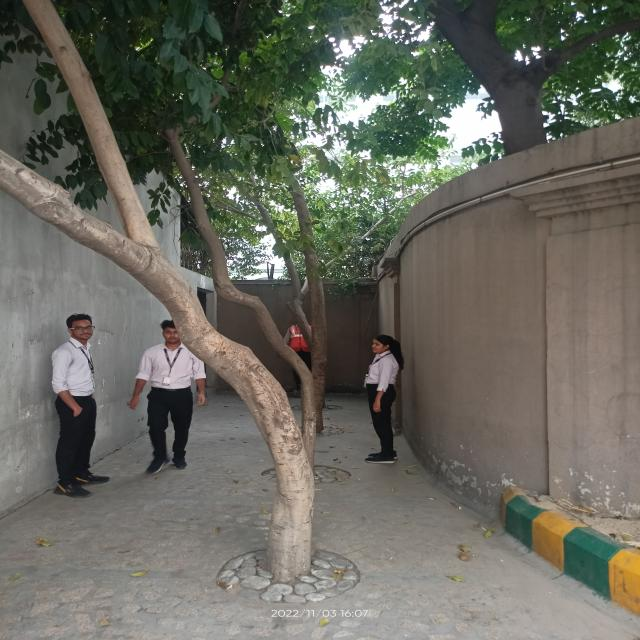unsafe: (49, 310, 110, 498), (128, 318, 195, 476), (362, 337, 408, 464)
